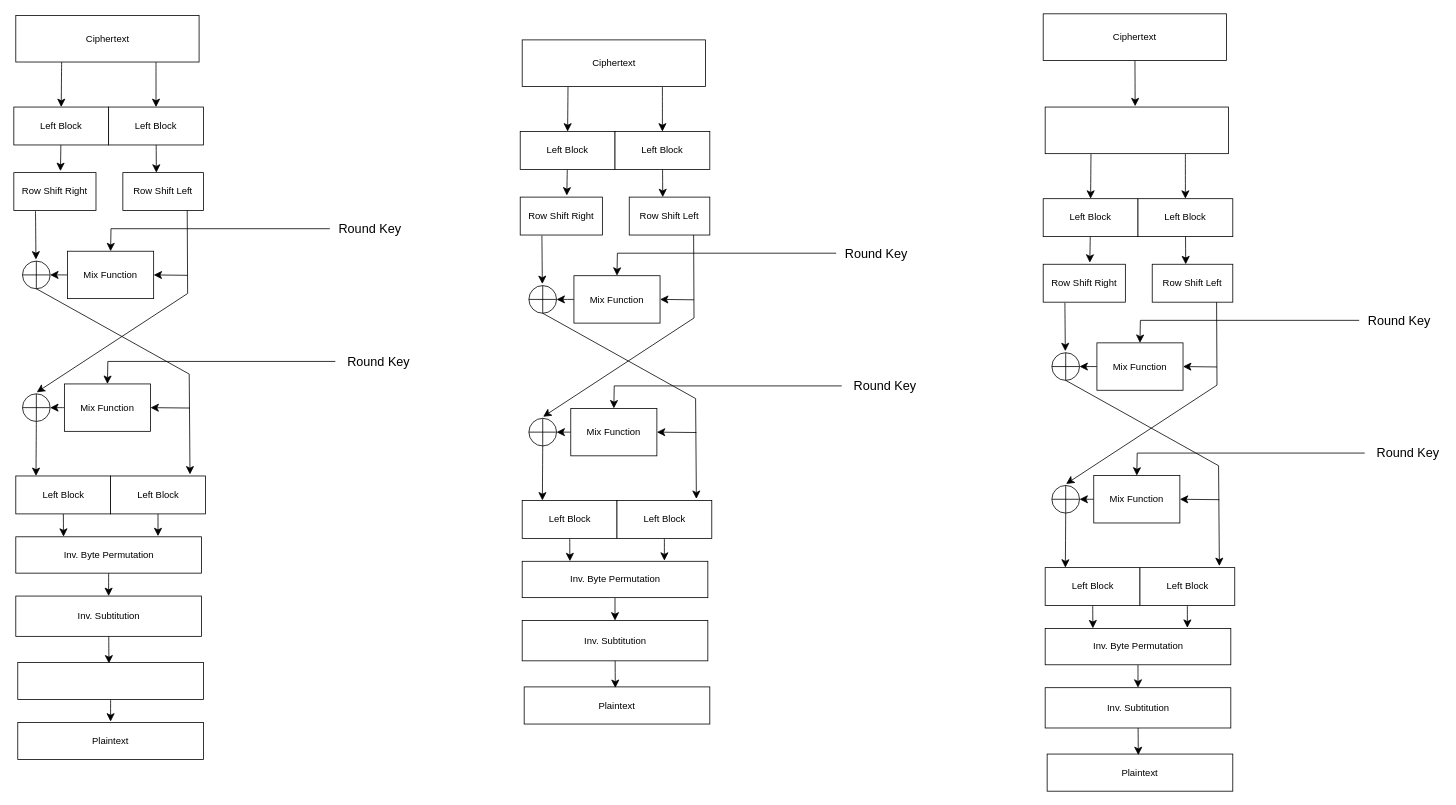
The diagram is 1456 pixels wide and 805 high, and some of its shapes have lost their labels. The centre of each missing label's shape, as x and y in pixels:
Bit Permutation 2: point 1136,130
Inv. Bit Permutation 1: point 110,681
